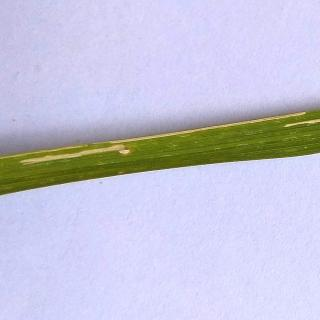Blast: (110, 142, 136, 170)
